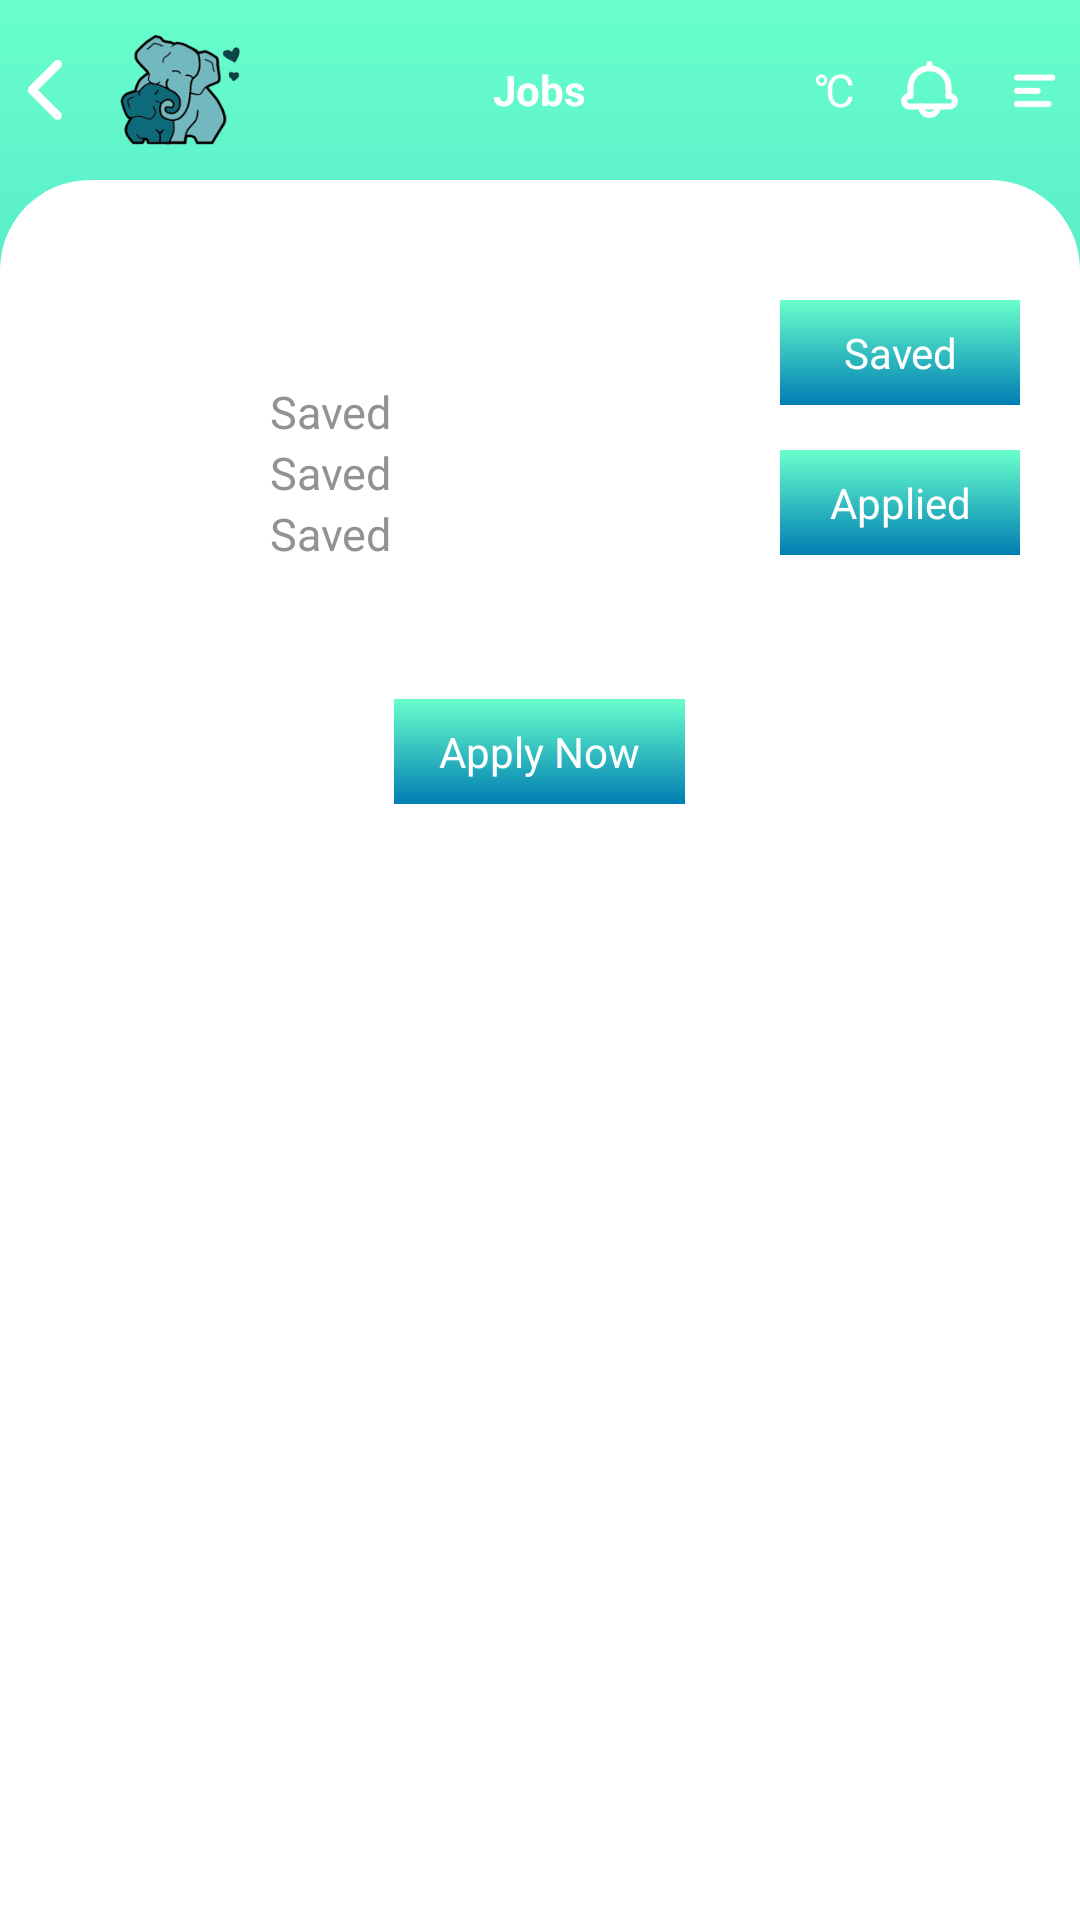

Where to tap for icons on this 1080 × 1920 app screen, as [x,y]:
back: [45,90]
menu: [1035,90]
notifications: [929,89]
